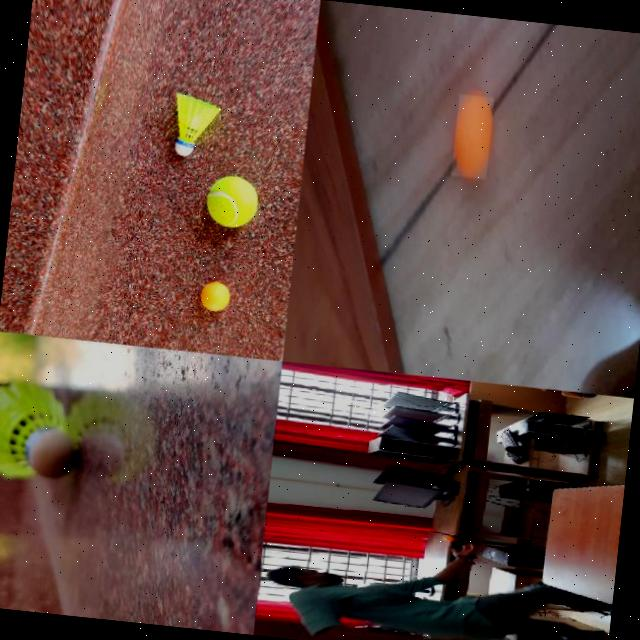ping-pong-ball: (450, 92, 495, 178), (199, 282, 232, 310), (442, 534, 458, 542)
